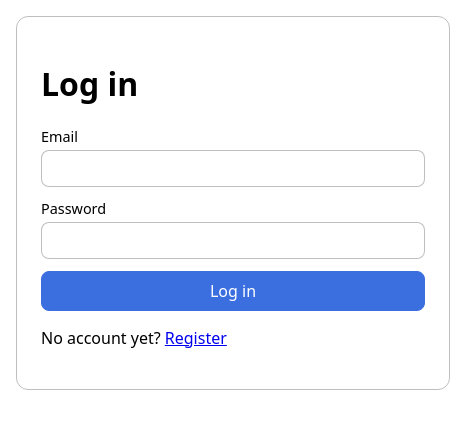
it: LoginPage › shows an error when the credentials are wrong
The image size is (467, 441).
Type "anna@example.com" into the field labelled "Email" at (233, 168), box [41,150,425,187]
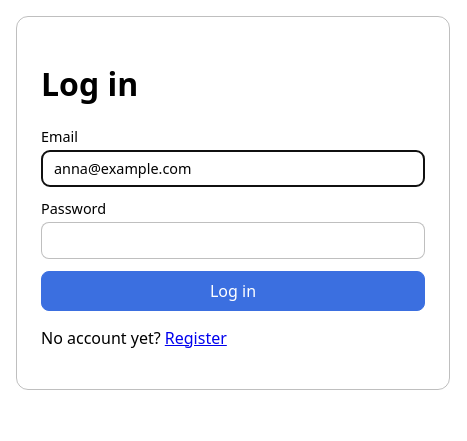
Type "wrong-password" into the password field labelled "Password" at (233, 240), box [41,222,425,259]
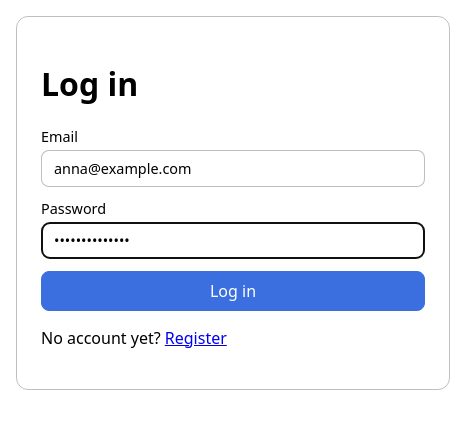
Click the button "Log in" at (233, 291), box [41,271,425,311]
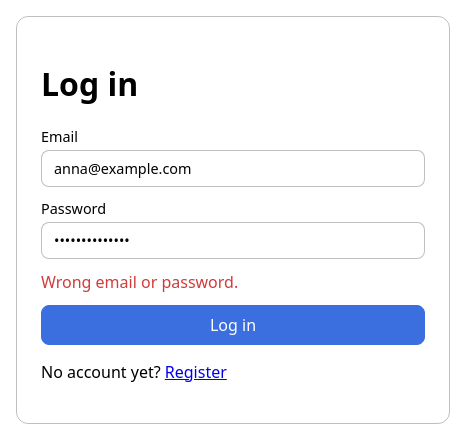
Expected: the message reads "Wrong email or password.", [41,271,238,293]
